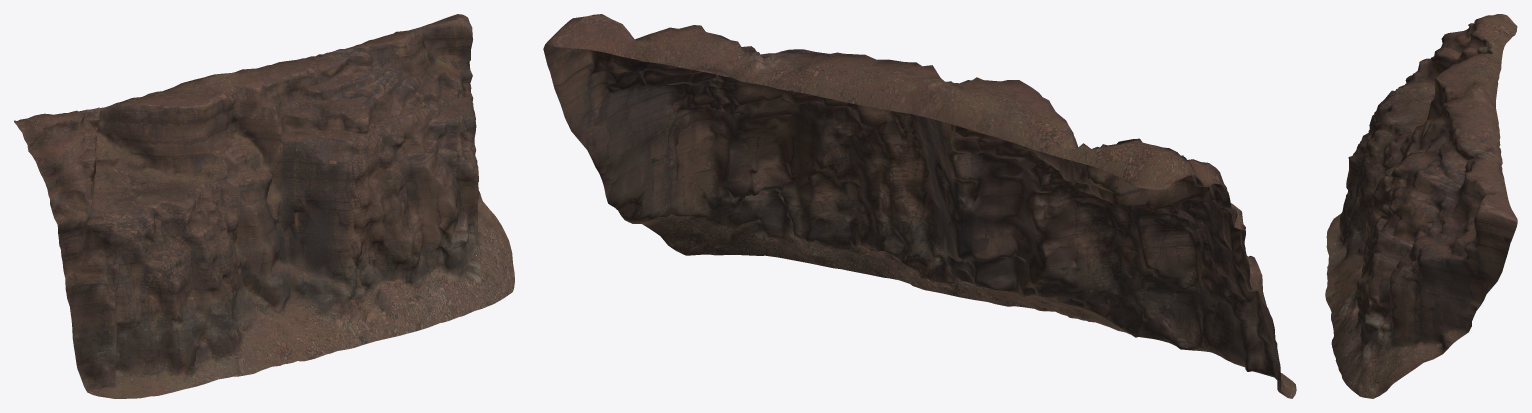
The model's file is Cliff 1.fbx.
The picture shows the model from 3 angles, left to right: view 1: azimuth 30°, elevation 25°; view 2: azimuth 150°, elevation 25°; view 3: azimuth 270°, elevation 25°; orthographic projection. The views are drawn at different scales.
Visible parts, largest first — view 1: Aset_rock_cliffs_XL_ubhubhyda_LOD3; view 2: Aset_rock_cliffs_XL_ubhubhyda_LOD3; view 3: Aset_rock_cliffs_XL_ubhubhyda_LOD3.
Part boxes in pixels (x1,y1,x2,y2): Aset_rock_cliffs_XL_ubhubhyda_LOD3: (14, 14, 514, 398); Aset_rock_cliffs_XL_ubhubhyda_LOD3: (543, 14, 1296, 398); Aset_rock_cliffs_XL_ubhubhyda_LOD3: (1325, 14, 1517, 398).
Bounding box in the file's own units: 1382 × 661 × 552.
1 material, 1 textured.
